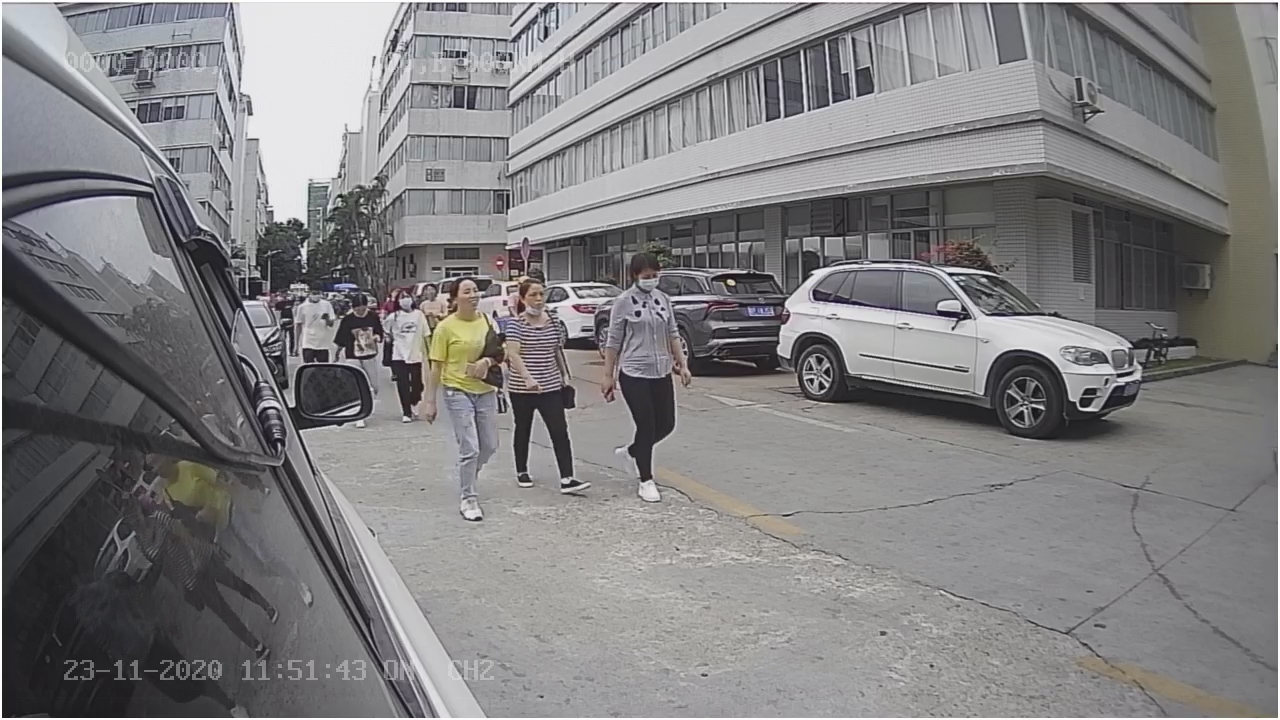person: (600, 247, 694, 507), (425, 265, 507, 522)
